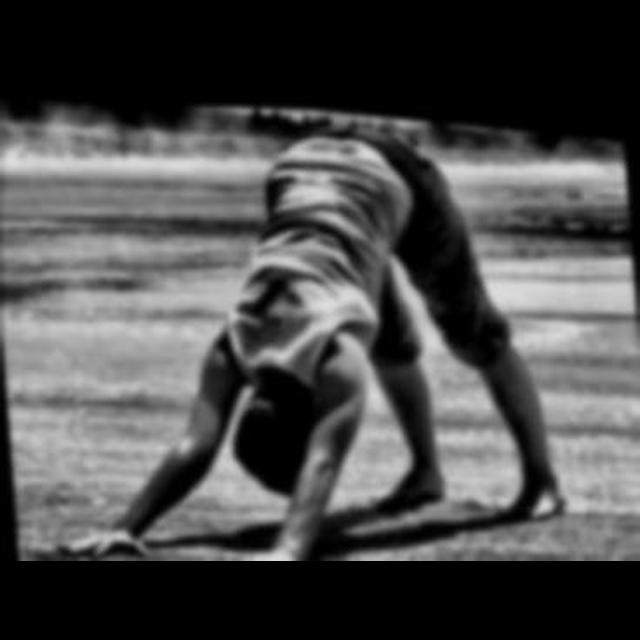Downward-Facing_Dog: (49, 109, 571, 563)
